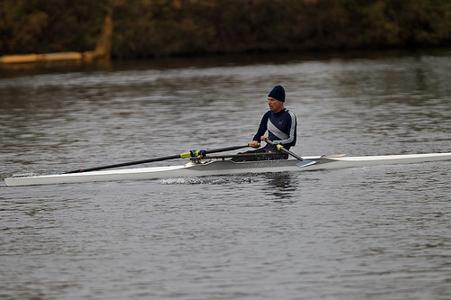person: (228, 84, 299, 164)
